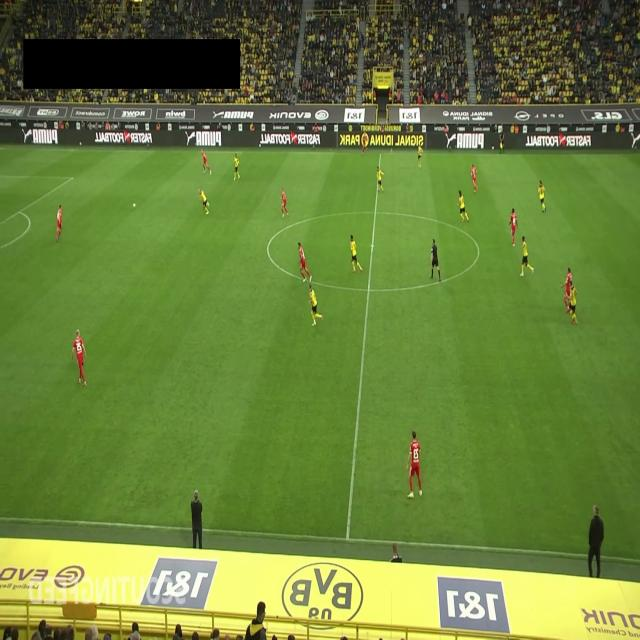ball: (132, 202, 136, 209)
player: (406, 431, 423, 498), (72, 329, 88, 386), (308, 283, 324, 326), (297, 241, 312, 283), (519, 235, 534, 277), (561, 268, 573, 314), (350, 234, 362, 274), (457, 190, 469, 222), (569, 283, 578, 324), (509, 208, 518, 246), (198, 188, 210, 214), (200, 149, 212, 174), (538, 180, 546, 213), (280, 187, 288, 218), (376, 165, 385, 192), (56, 204, 62, 242), (471, 164, 478, 193), (233, 152, 240, 181), (417, 144, 423, 168)
referee: (430, 238, 441, 282), (499, 128, 505, 155)
